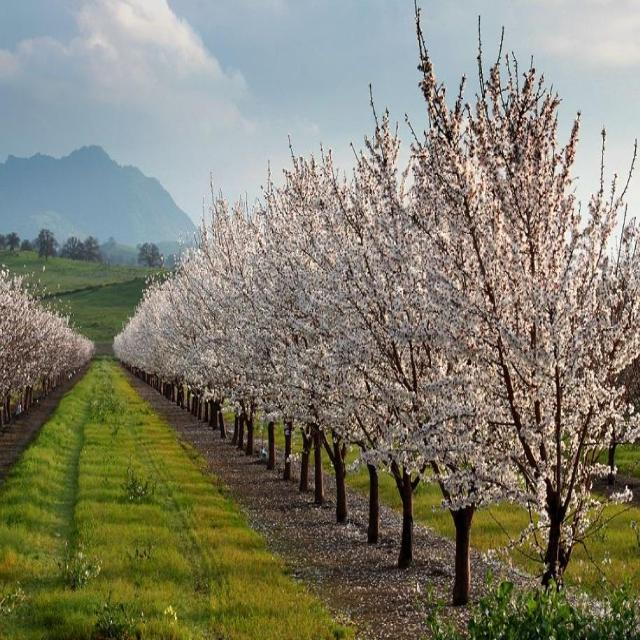row: (0, 357, 430, 639)
